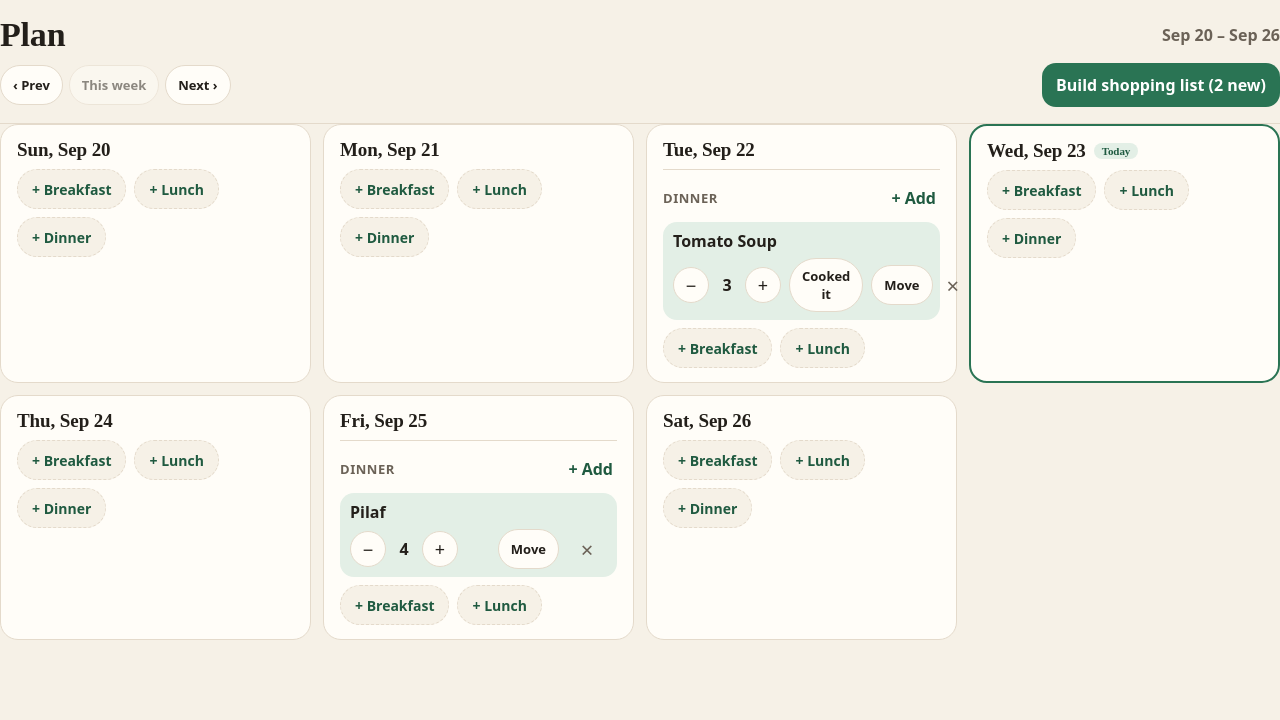
Test: logging a planned meal as cooked › offers Cooked it on today’s and earlier meals only, pre-filled from the plan
Click the button with aria-label "Cooked Tomato Soup": (826, 285) [789,258,863,312]
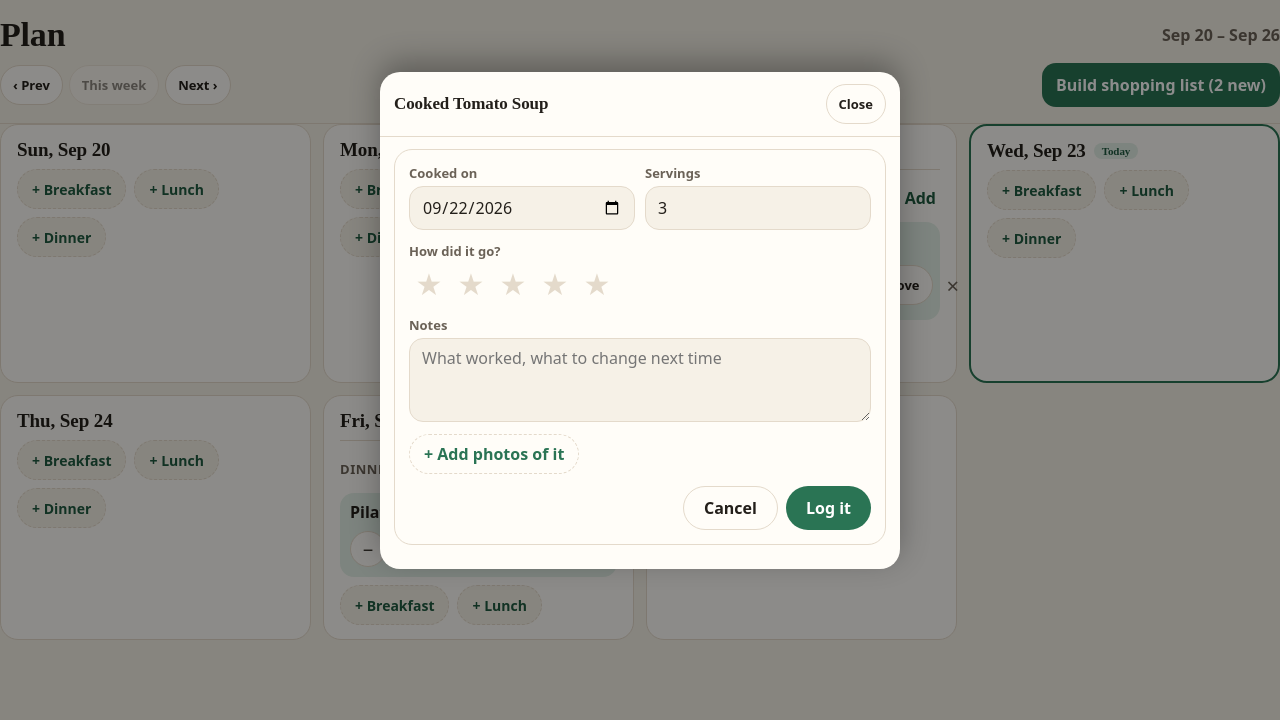
Check: the date field labelled "Cooked on" holds "2026-09-22", box [409,186,635,230]
Check: the number field labelled "Servings" holds "3", box [645,186,871,230]
Click the button "Log it": (828, 508) [786,486,871,530]
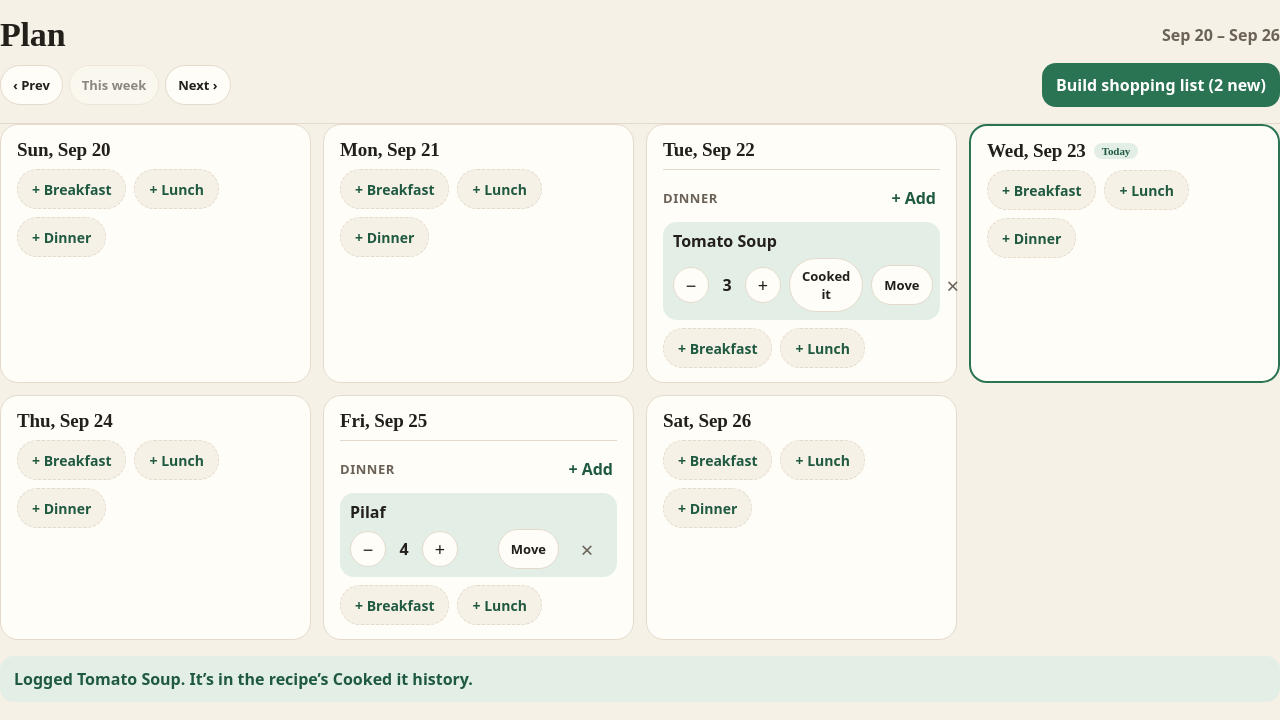
Check: the message shows "Logged Tomato Soup.", box [0,656,1279,702]
